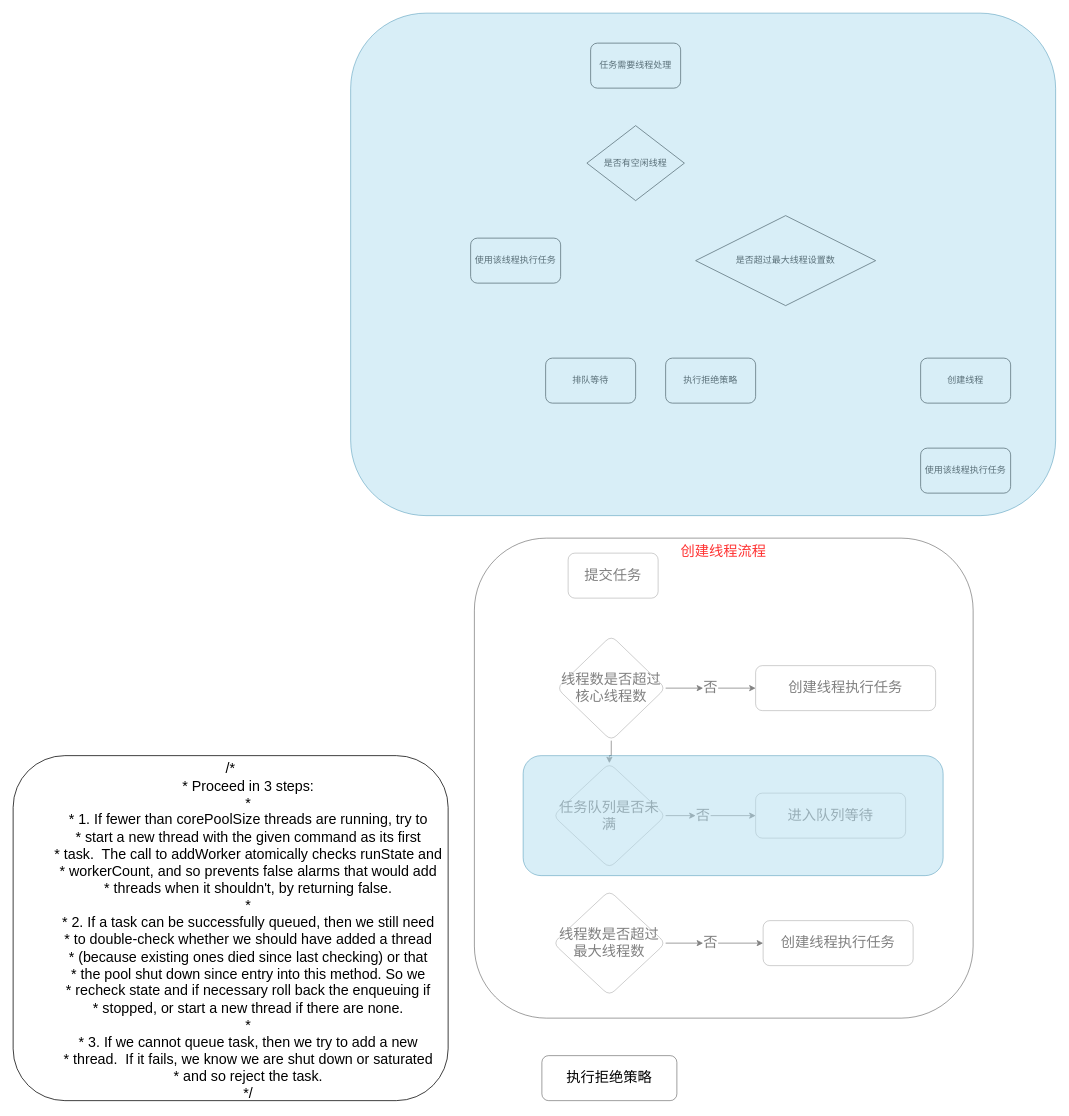
Some shapes in this 1069 by 1116 pixel diagram are drawn without their labels. Each missing label, with the centre of its shape:
"线程池使用大体流程" belongs at [703,264].
"顺序可能在前" belongs at [732,815].
